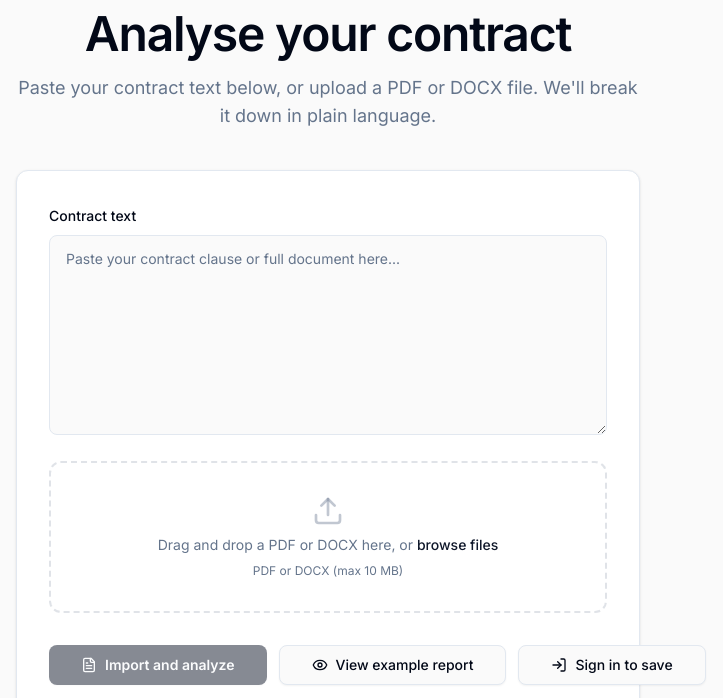
Scenario: Analyze page — truncated document gating › does NOT show truncation gate for non-truncated documents
Type "some contract text" into the text box with placeholder "Paste your contract clause or full document here..." at coordinates (328, 335), box [49,235,607,435]
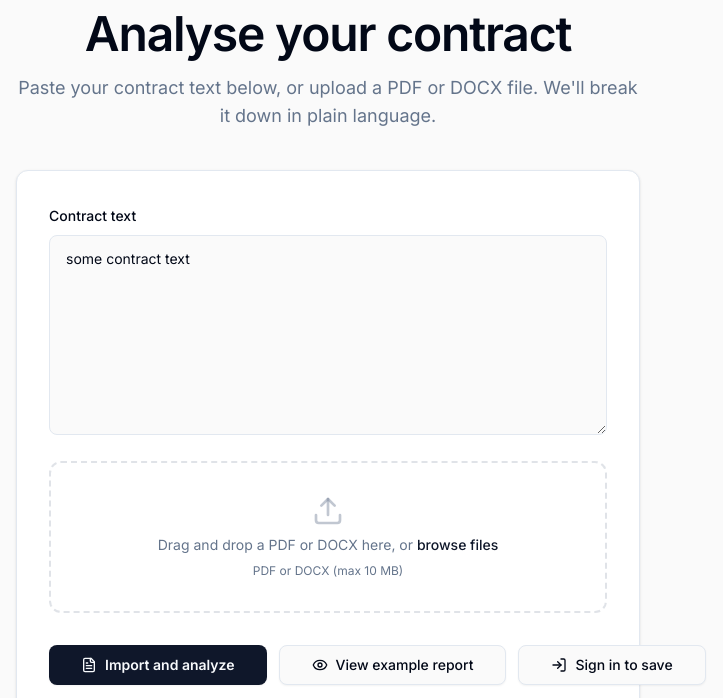
Click the button "Import and analyze" at coordinates (158, 665), box [49,645,266,685]
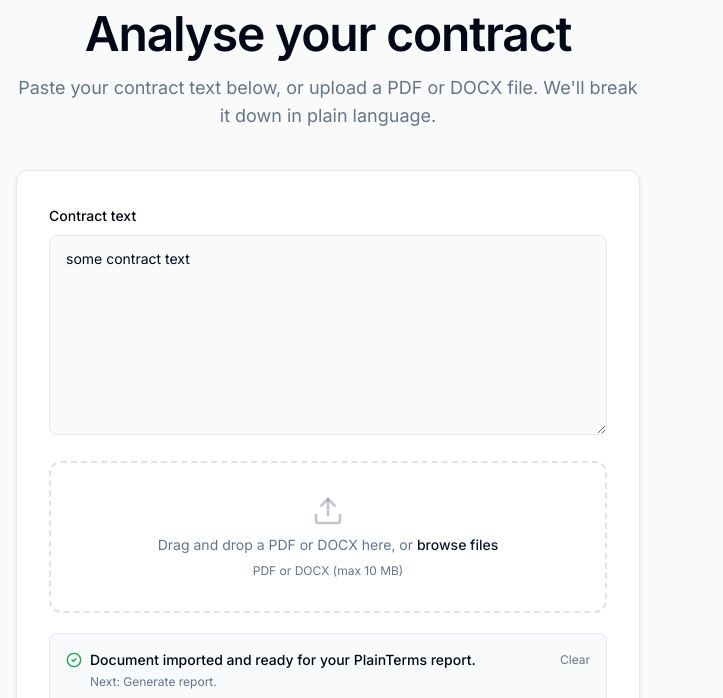
Check: the text "Document imported and ready for your PlainTerms report." is shown, box [90,650,476,670]
